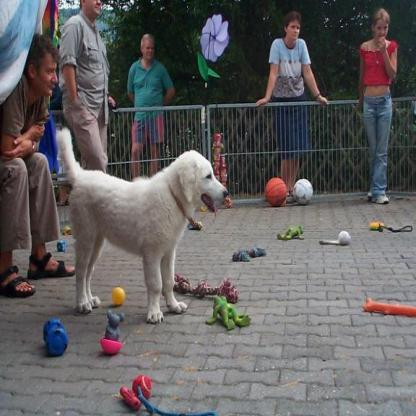kuvasz: (54, 129, 226, 323)
